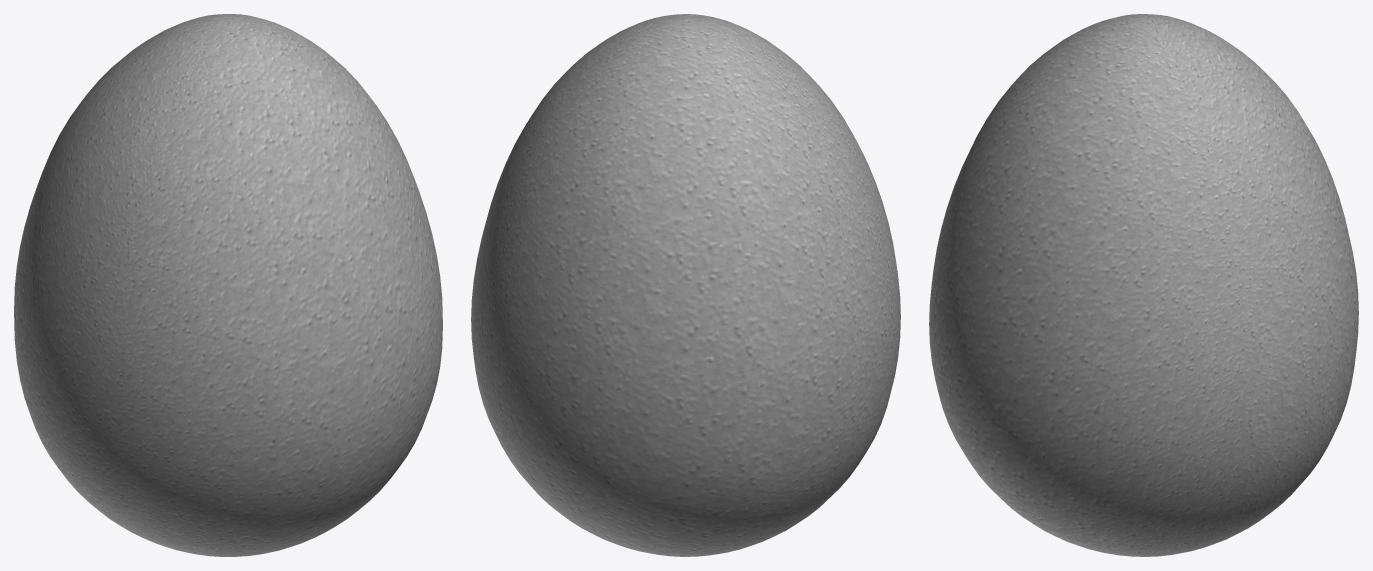
Rendered from egg.obj.
The picture shows the model from 3 angles, left to right: view 1: azimuth 30°, elevation 25°; view 2: azimuth 150°, elevation 25°; view 3: azimuth 270°, elevation 25°; orthographic projection.
Visible parts, largest first — view 1: Sphere.001; view 2: Sphere.001; view 3: Sphere.001.
Boxes of the visible parts, left/top/right/bottom form: Sphere.001: left=14, top=14, right=442, bottom=556; Sphere.001: left=471, top=14, right=900, bottom=556; Sphere.001: left=929, top=14, right=1358, bottom=556.
Size of the model in its own units: 3.05 by 4.05 by 3.05.
1 material, 1 textured.
